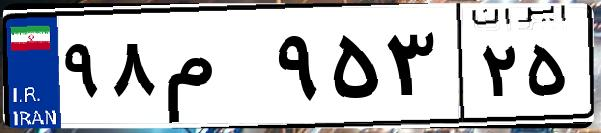2: (475, 38, 525, 113)
3: (385, 28, 445, 110)
5: (330, 28, 385, 110), (525, 38, 570, 115)
8: (110, 28, 158, 98)
9: (270, 28, 330, 110), (57, 26, 110, 100)
م: (158, 20, 270, 120)
